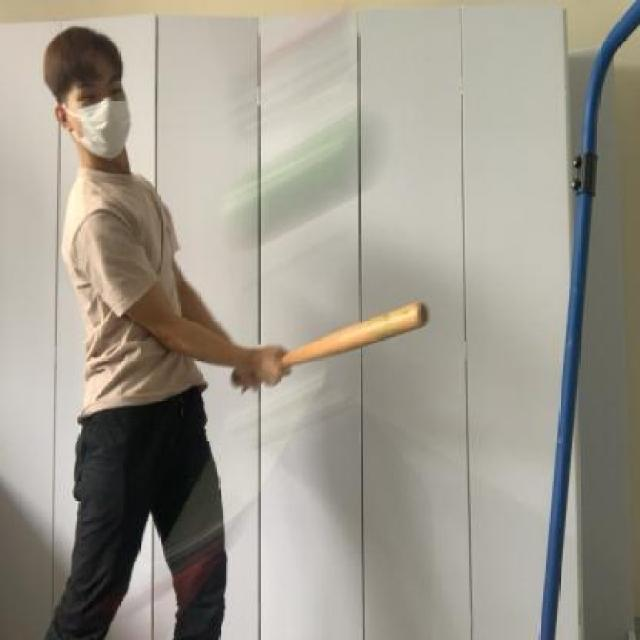baseball: (212, 98, 390, 279)
